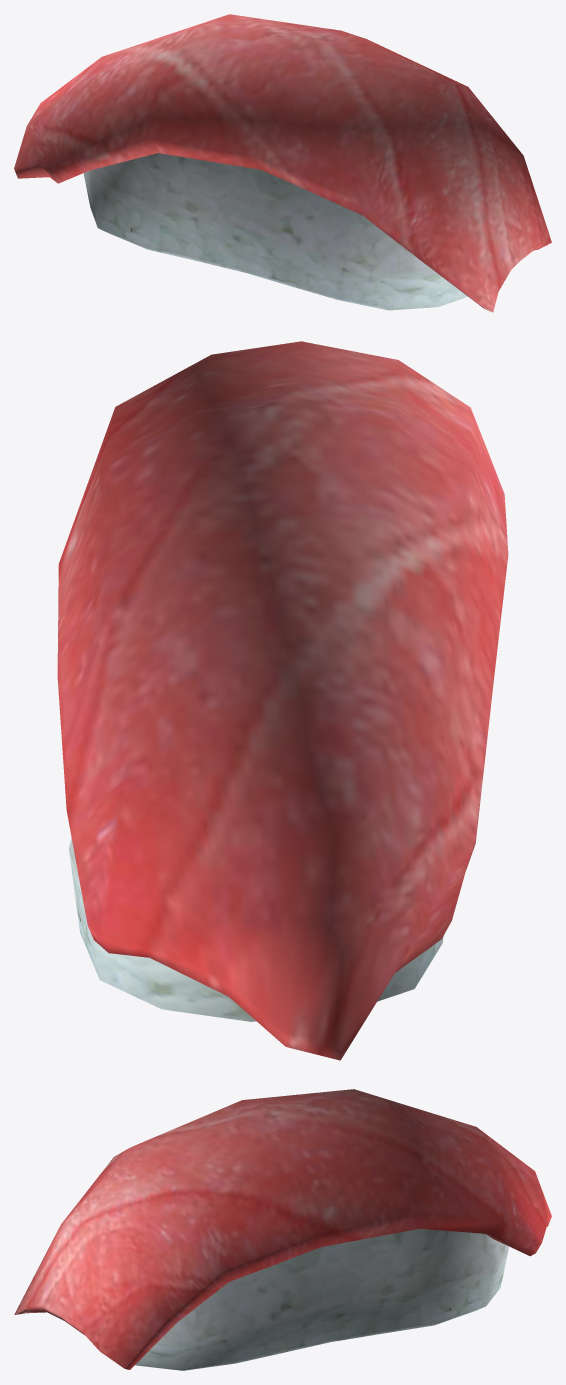
The model's file is sushi edit2.FBX.
The picture shows the model from 3 angles, top to bottom: view 1: azimuth 30°, elevation 25°; view 2: azimuth 150°, elevation 25°; view 3: azimuth 270°, elevation 25°; orthographic projection. The views are drawn at different scales.
Parts seen in each view (by area): view 1: toro_b_4_0_node; view 2: toro_b_4_0_node; view 3: toro_b_4_0_node.
Part boxes in pixels (x1=…): toro_b_4_0_node: x1=14, y1=14, x2=551, y2=312; toro_b_4_0_node: x1=57, y1=341, x2=508, y2=1060; toro_b_4_0_node: x1=14, y1=1089, x2=551, y2=1370.
Bounding box in the file's own units: 36.93 × 53.34 × 22.96.
